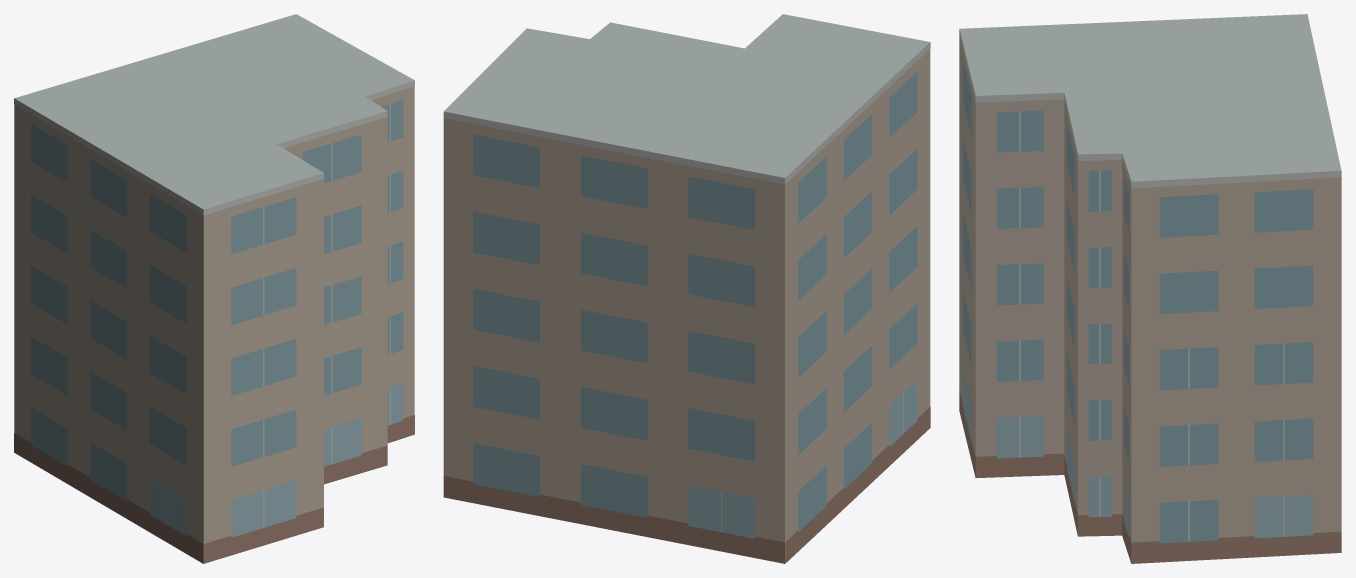
The model's file is survey-upis-32918013.glb.
3 renders of one model, left to right at view 1: azimuth 30°, elevation 25°; view 2: azimuth 150°, elevation 25°; view 3: azimuth 270°, elevation 25°, orthographic. The views are drawn at different scales.
Visible parts, largest first — view 1: survey-upis-32918013.tmp; view 2: survey-upis-32918013.tmp; view 3: survey-upis-32918013.tmp.
Part boxes in pixels (bbox=[...]): survey-upis-32918013.tmp: bbox=[14, 14, 414, 563]; survey-upis-32918013.tmp: bbox=[443, 14, 930, 563]; survey-upis-32918013.tmp: bbox=[959, 14, 1341, 563].
Bounding box in the file's own units: 13.43 × 14.25 × 12.93.
